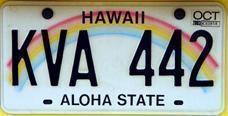placa de veiculo: (0, 0, 224, 115)
